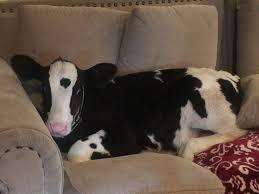cow: (9, 53, 249, 161)
